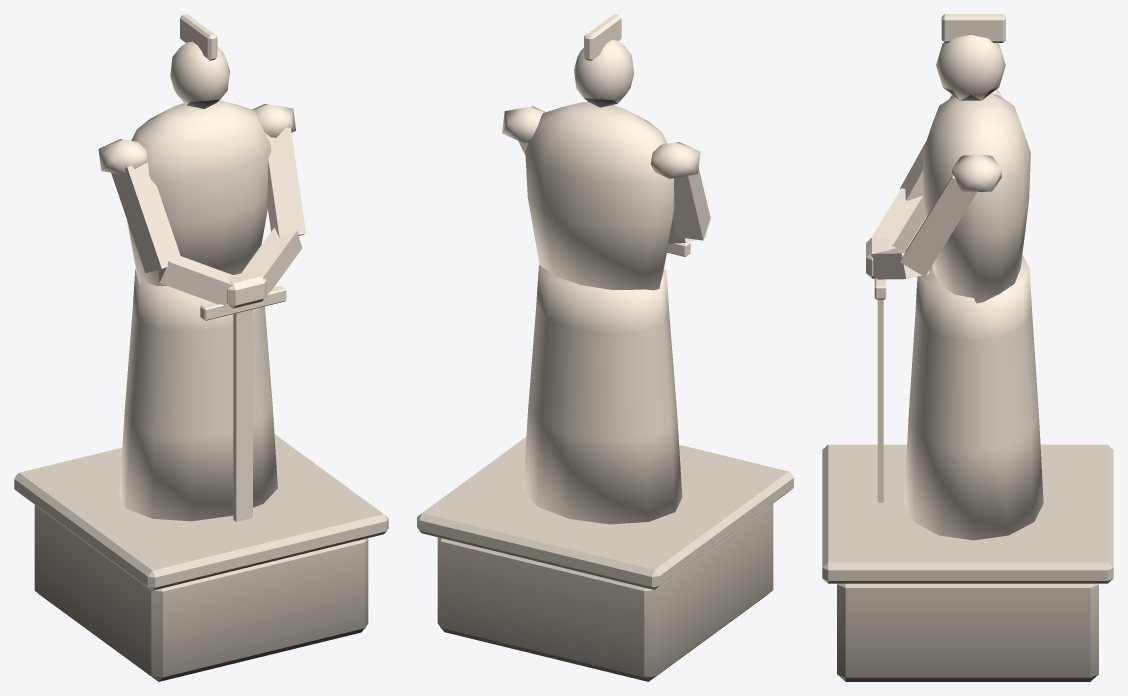
Rendered from SM_VKI_Prop_Statue_Guardian.fbx.
The picture shows the model from 3 angles, left to right: view 1: azimuth 30°, elevation 25°; view 2: azimuth 150°, elevation 25°; view 3: azimuth 270°, elevation 25°; orthographic projection. The views are drawn at different scales.
Visible parts, largest first — view 1: SM_VKI_Prop_Statue_Guardian.001; view 2: SM_VKI_Prop_Statue_Guardian.001; view 3: SM_VKI_Prop_Statue_Guardian.001.
Boxes of the visible parts, left/top/right/bottom form: SM_VKI_Prop_Statue_Guardian.001: left=14, top=14, right=388, bottom=681; SM_VKI_Prop_Statue_Guardian.001: left=417, top=14, right=793, bottom=681; SM_VKI_Prop_Statue_Guardian.001: left=822, top=14, right=1113, bottom=681.
Bounding box in the file's own units: 1 × 2.33 × 1.
